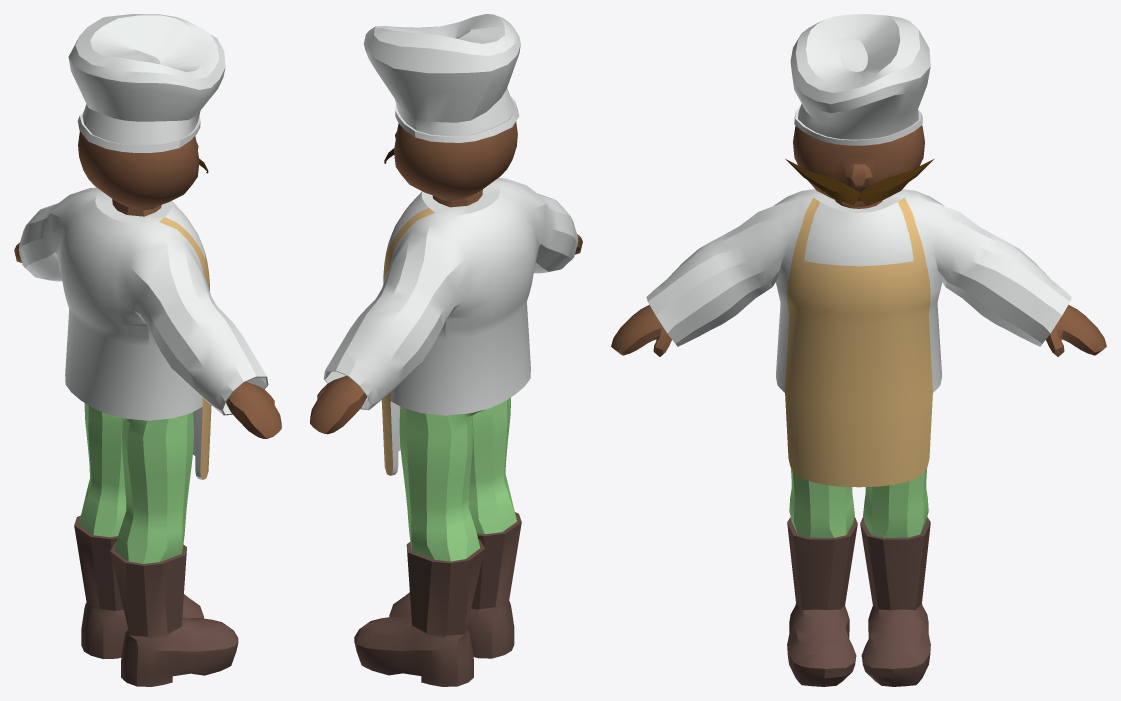
Rendered from Cook2.fbx.
The picture shows the model from 3 angles, left to right: view 1: azimuth 30°, elevation 25°; view 2: azimuth 150°, elevation 25°; view 3: azimuth 270°, elevation 25°; orthographic projection. The views are drawn at different scales.
Parts seen in each view (by area): view 1: arms.003, Chef hat.002; view 2: arms.003, Chef hat.002; view 3: arms.003, Chef hat.002, mustache.004.
Part boxes in pixels (x1=…): arms.003: x1=14, y1=131, x2=281, y2=686; Chef hat.002: x1=68, y1=14, x2=225, y2=152; arms.003: x1=310, y1=121, x2=582, y2=686; Chef hat.002: x1=363, y1=14, x2=520, y2=142; arms.003: x1=611, y1=125, x2=1106, y2=686; Chef hat.002: x1=790, y1=14, x2=930, y2=145; mustache.004: x1=785, y1=159, x2=933, y2=205.
Bounding box in the file's own units: 48.37 × 201 × 144.
